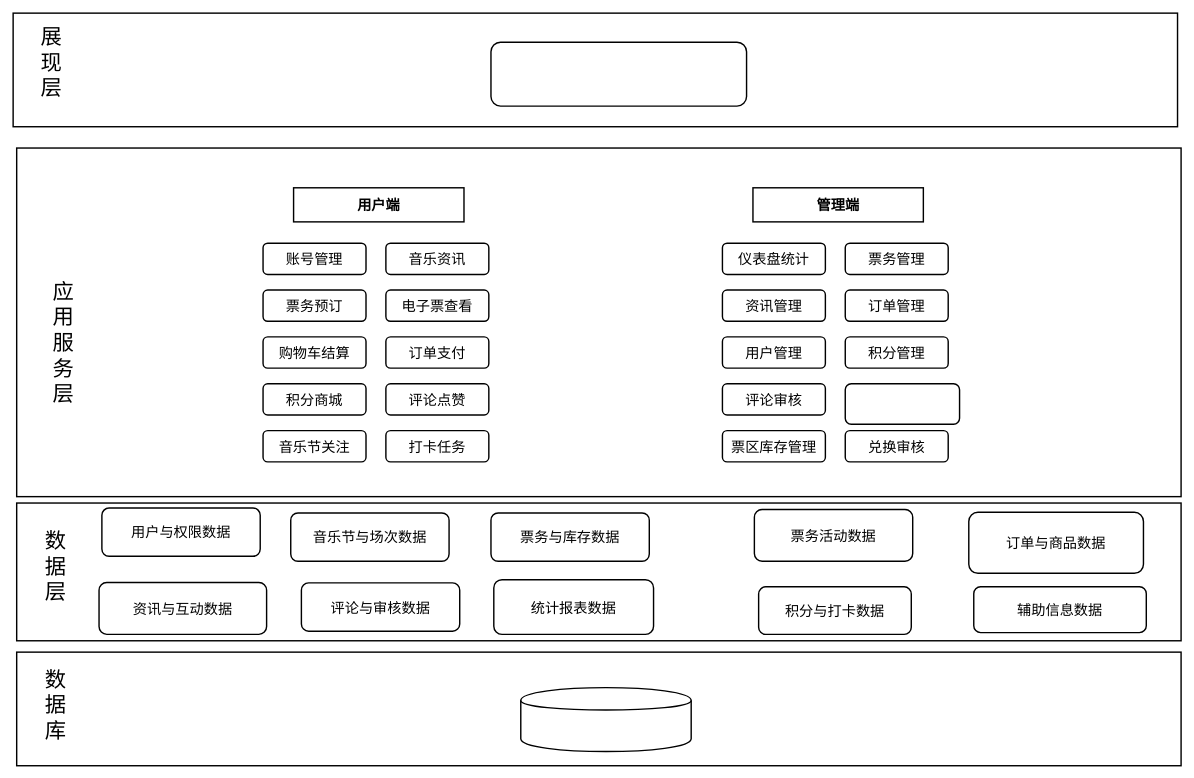
The diagram is 1194 pixels wide and 778 high, and some of its shapes have lost their labels. The box of each missing label's shape, as (x1, y1, x2, y2) in pixels:
MySQL 数据库: (520, 687, 692, 752)
PC浏览器: (490, 41, 747, 106)
音乐节/场次管理: (844, 383, 960, 425)
